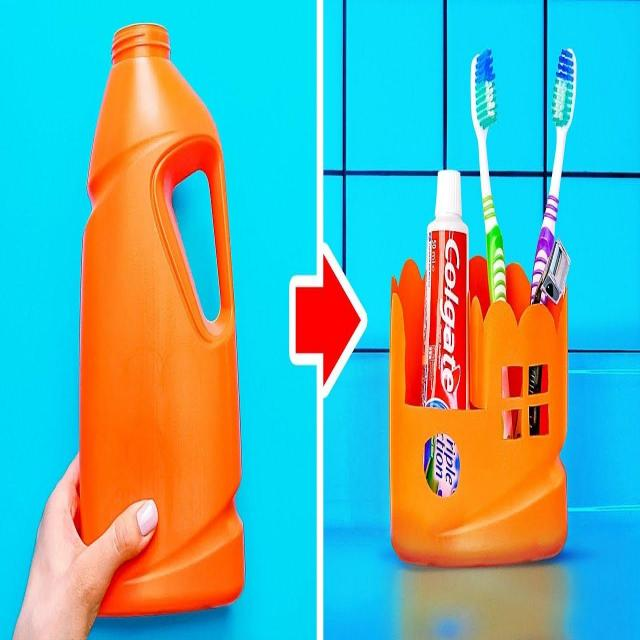plastic_bottle: (73, 19, 283, 628), (384, 249, 584, 600)
